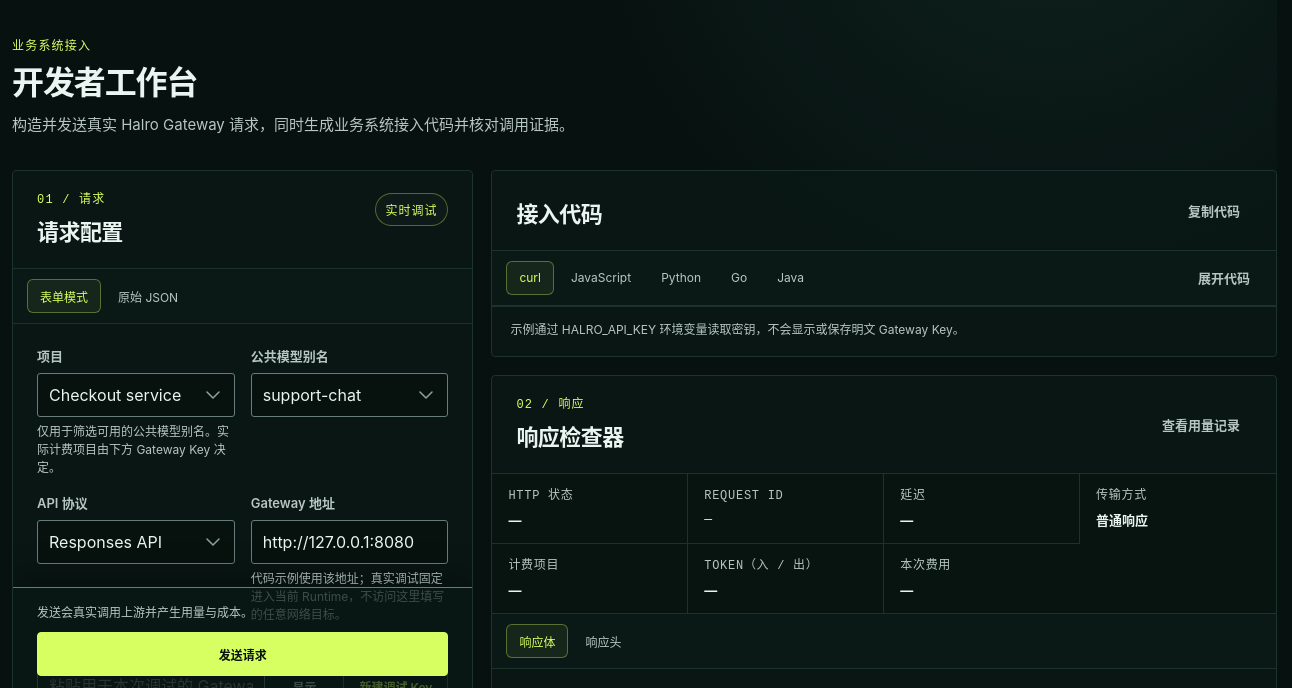
it: DeveloperPage › builds integration examples from project public routes without sending a request
This screenshot has width=1292, height=688.
Expected: the heading "开发者工作台" is shown, [12,63,197,102]
Expected: the field labelled "Gateway 地址 代码示例使用该地址；真实调试固定进入当前 Runtime，不访问这里填写的任意网络目标。" holds "http://127.0.0.1:8080", [251,520,448,564]
Click the button "展开代码" at (1224, 278), box [1186,261,1262,295]
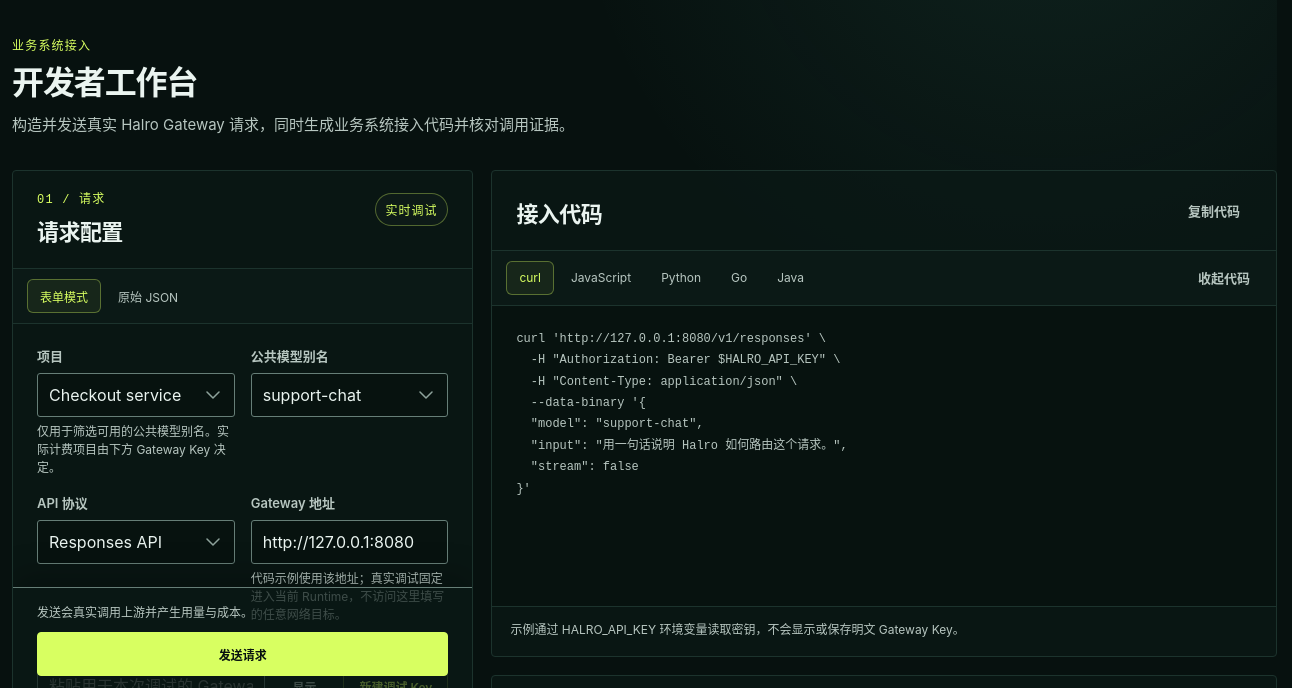
Expected: the button "发送请求" is disabled, [37,632,448,676]
Expected: the text "HALRO_API_KEY" is shown 2 times, [516,332,848,496]; [510,621,965,642]
Select "Chat Completions" in the dropdown labelled "API 协议" at (136, 542), box [37,520,235,564]
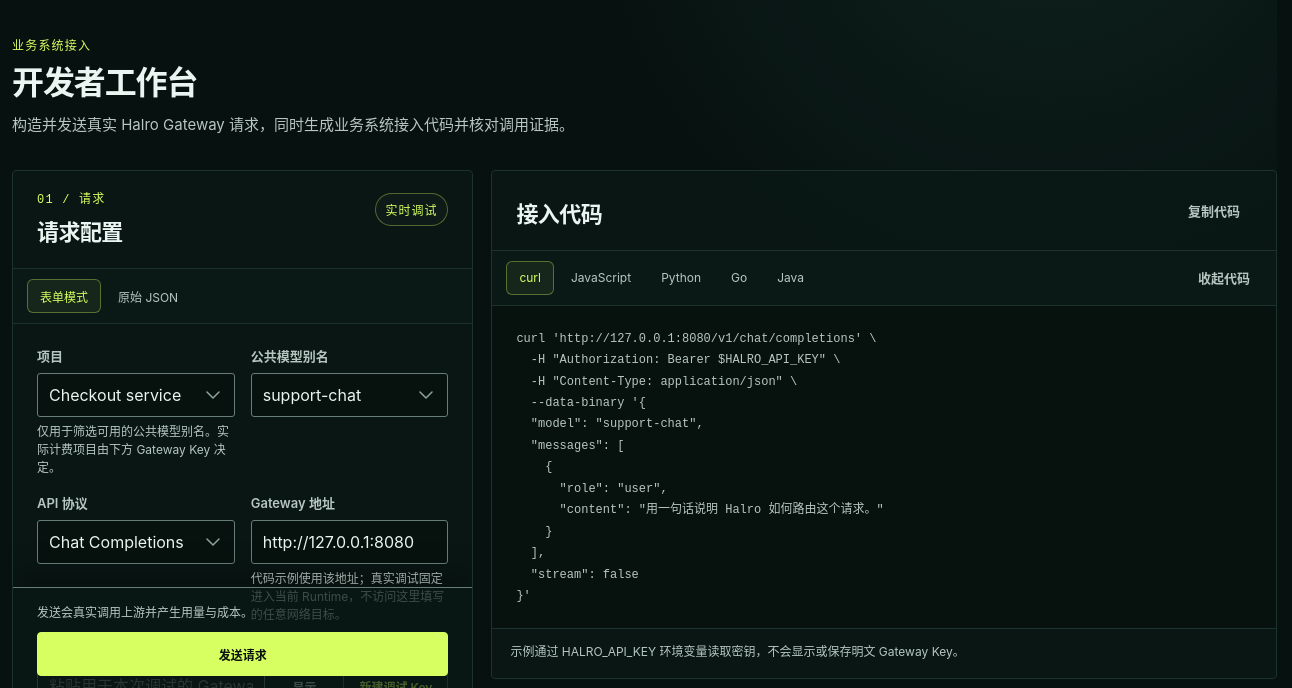
Expected: the text "messages" is shown, [516,332,884,603]
